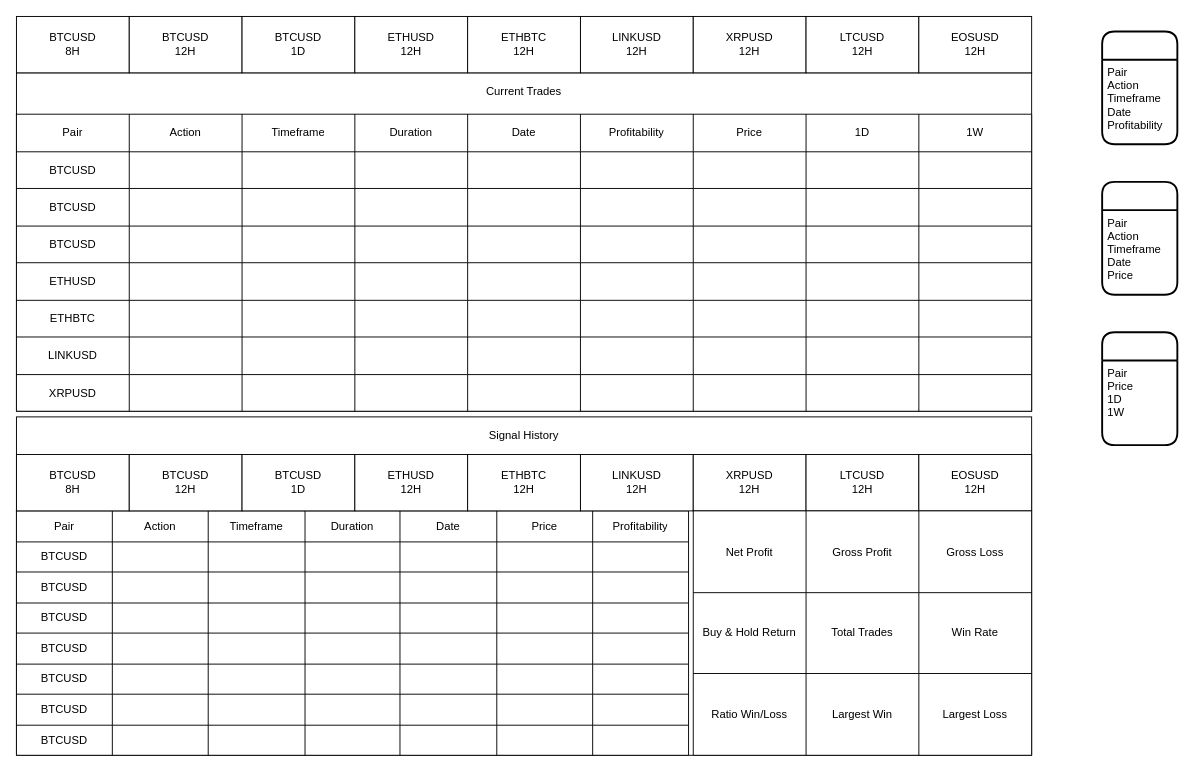
Image size: 1195x772. Some labels were removed from this diagram. The box of each missing label's shape, as (x1, y1, x2, y2) in pixels:
Pairs: (1101, 331, 1178, 446)
Signal: (1101, 180, 1178, 295)
Trades: (1101, 30, 1178, 145)
